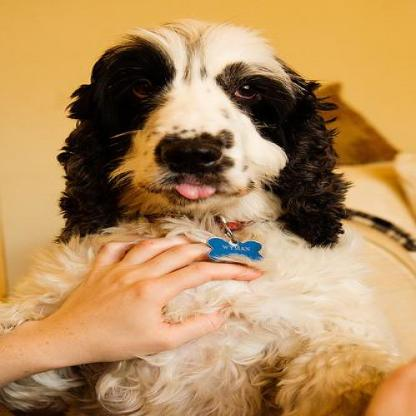cocker_spaniel: (0, 20, 412, 413)
